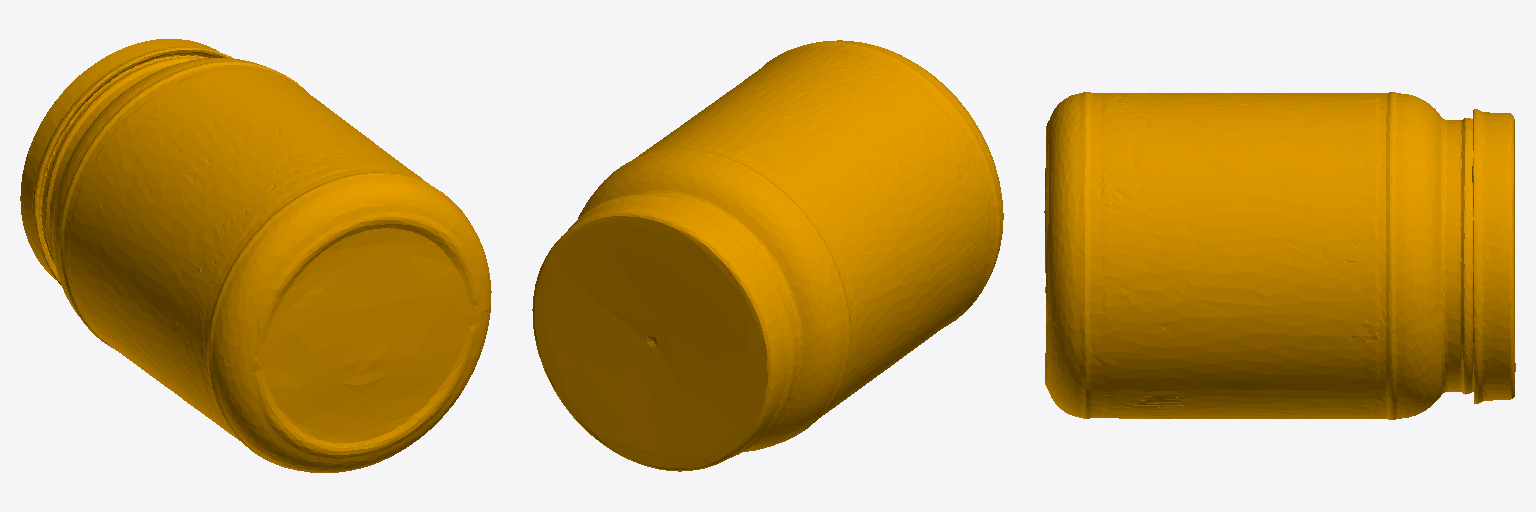
URDF robot description (model.urdf):
<?xml version="0.0" ?>
<robot name="model.urdf">
  <link name="baseLink">
    <visual>
			<origin xyz="0 0 0" rpy="-1.57 0 0"/>
      <geometry>
        <mesh filename="model.obj" scale="0.75 0.75 0.75"/>
      </geometry>
      <material name="white">
        <texture filename="assets/urdf_models/models/Creatine_Monohydrate_5/texture.png"/>
      </material>
    </visual>
    <collision>
      <geometry>
    	 	<mesh filename="model.obj" scale="0.75 0.75 0.75"/>
      </geometry>
    </collision>
    <inertial>
			<mass value="0.54091"/>
			<inertia  ixx="0.002196" ixy="0.00"  ixz="0.00" iyy="0.002196" iyz="0.00" izz="0.002612" />
		</inertial>
  </link>
</robot>

--- Facts derived from the render (not from the file) ---
Views: 3 orthographic renders of the robot side by side, from view 1: azimuth 30°, elevation 25°; view 2: azimuth 150°, elevation 25°; view 3: azimuth 270°, elevation 25°.
Model model.urdf with 1 links and 0 joints (none), rooted at baseLink, posed every joint at zero.
Links seen in each view (by area): view 1: baseLink; view 2: baseLink; view 3: baseLink.
Boxes of the visible links, bbox=[...] form: baseLink: bbox=[20, 39, 491, 472]; baseLink: bbox=[532, 40, 1003, 471]; baseLink: bbox=[1044, 92, 1515, 419].
Size in the robot's own frame: 0.0966 by 0.1379 by 0.0965 metres.
Meshes: 1 distinct files referenced, 1 mesh visuals loaded (1 OBJ).